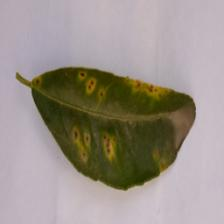canker: (44, 49, 165, 177)
